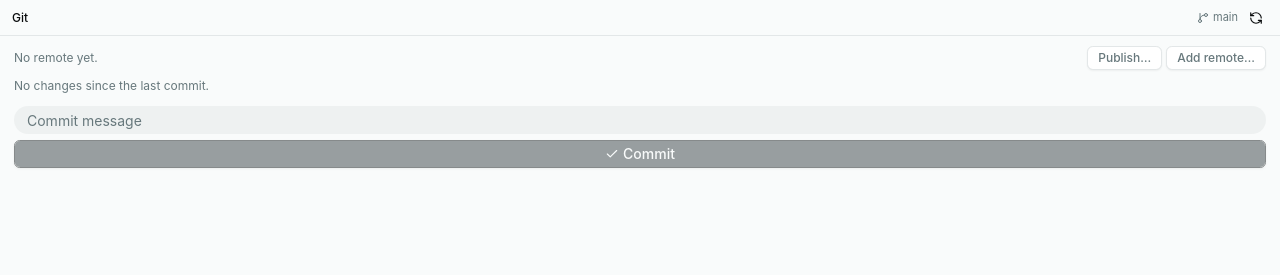
Test case: Publish › publishes as a private repository named after the project
Click the button "Publish…".
click(1125, 58)  # box [1087,46,1162,70]
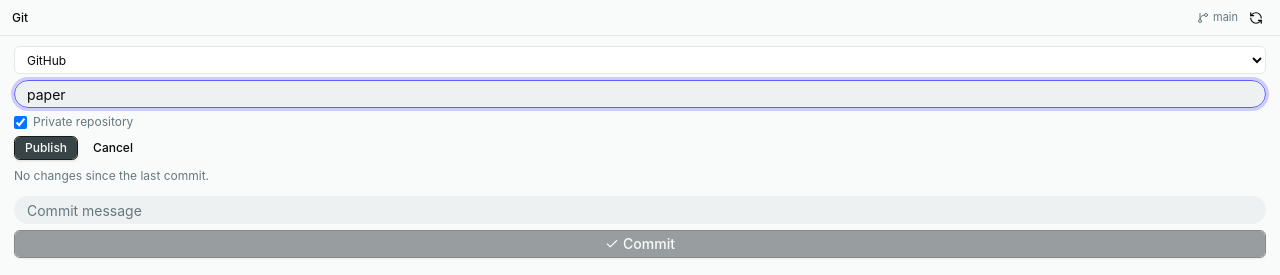
Now the field named "Repository name" holds "paper", box [14,80,1266,108]
Now the checkbox labelled "Private repository" is checked, box [14,116,27,128]
Click the button "Publish".
click(46, 148)  # box [14,136,78,160]
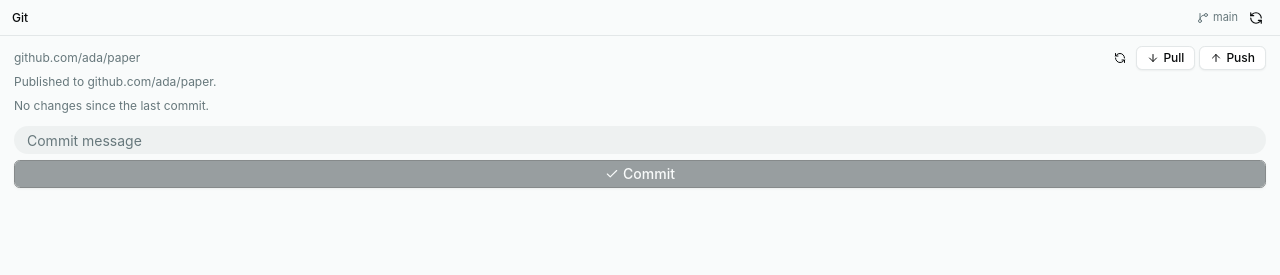
Now the text "Published to github.com/ada/paper." is shown, box [14,74,216,89]
Now the text "github.com/ada/paper" is shown, box [14,50,1104,66]
Now the button "Push" is shown, box [1199,46,1266,70]
